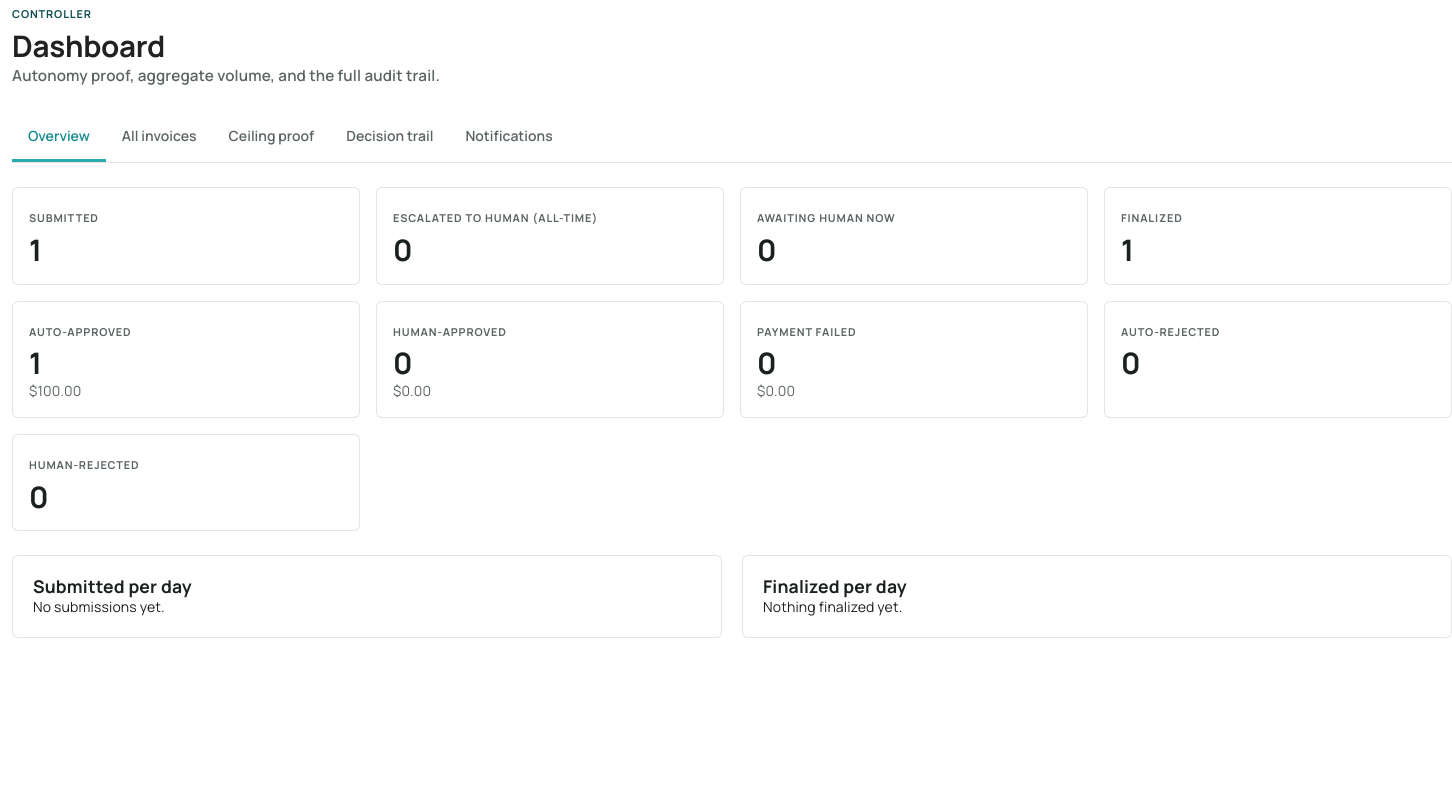
Test: ControllerDashboard › switches to the ceiling proof panel
Click the tab "Ceiling proof". click: click(271, 136)
box: left=213, top=110, right=330, bottom=162
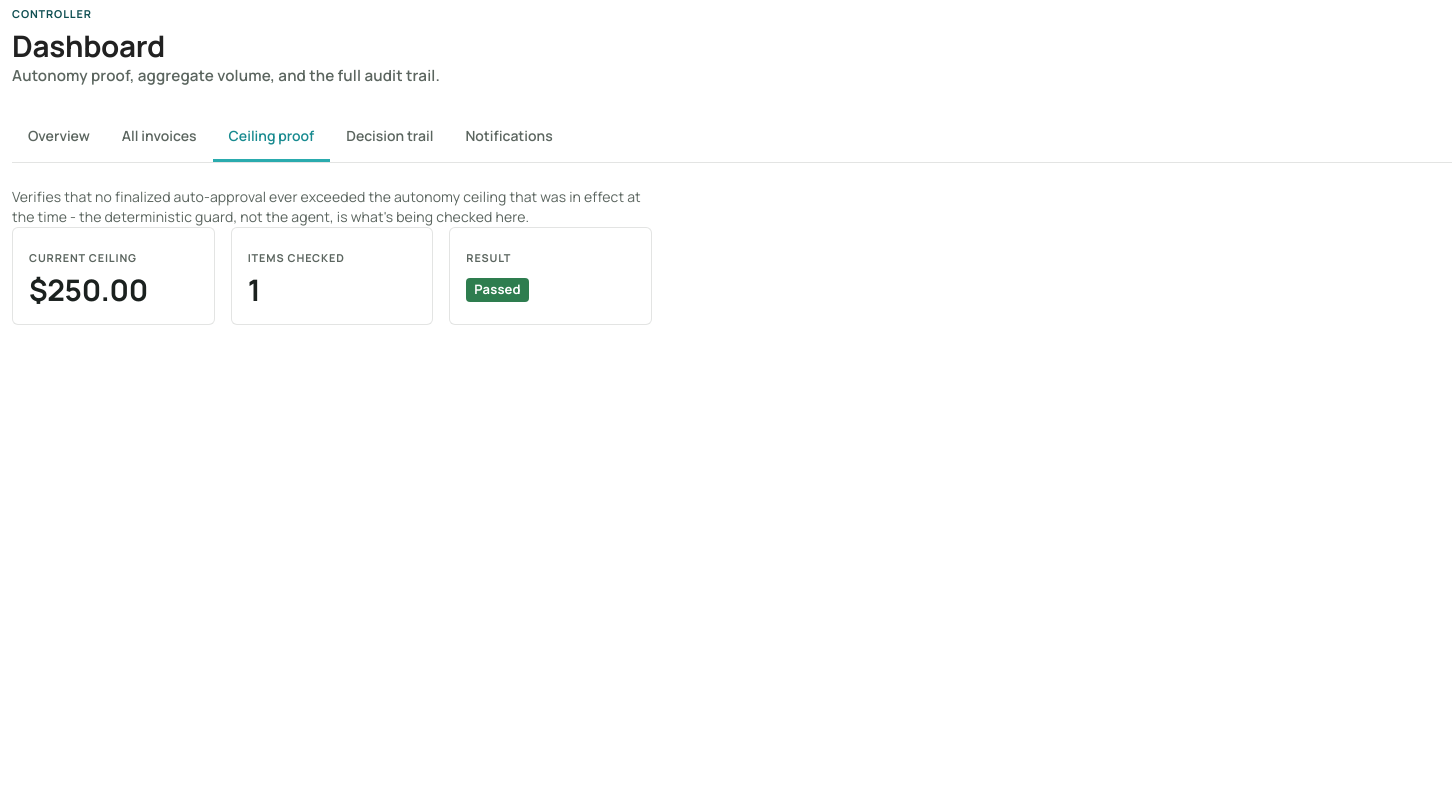
Expected: the text "Current ceiling" is shown, left=29, top=250, right=137, bottom=265
